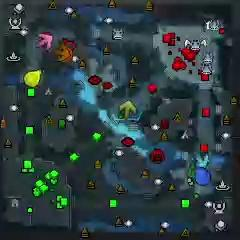p1: (195, 166, 211, 185)
p4: (24, 68, 43, 87)
x1: (36, 33, 53, 51)
x2: (118, 101, 138, 118)
x3: (192, 152, 210, 168)
x4: (188, 163, 196, 183)
x5: (53, 42, 69, 61)
